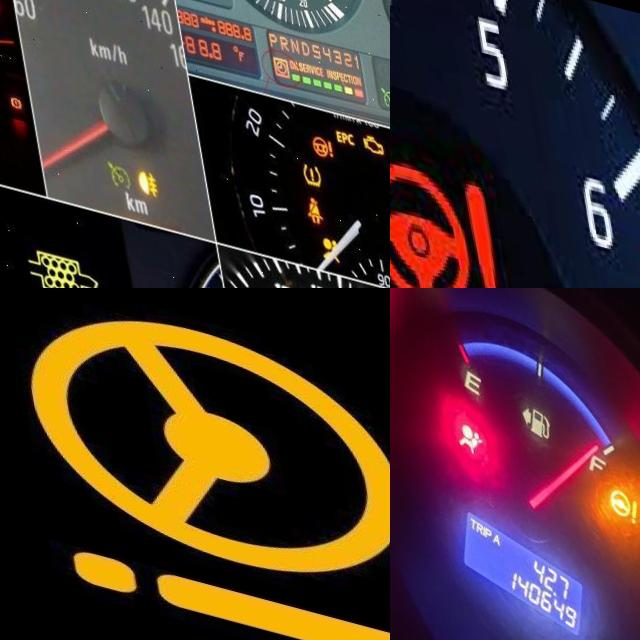Electronic Power Steering: (4, 288, 390, 640), (390, 134, 496, 288), (596, 465, 635, 506)
Electronic Power Steering Warning: (304, 109, 327, 135)
Seat Belt: (296, 173, 312, 201)
